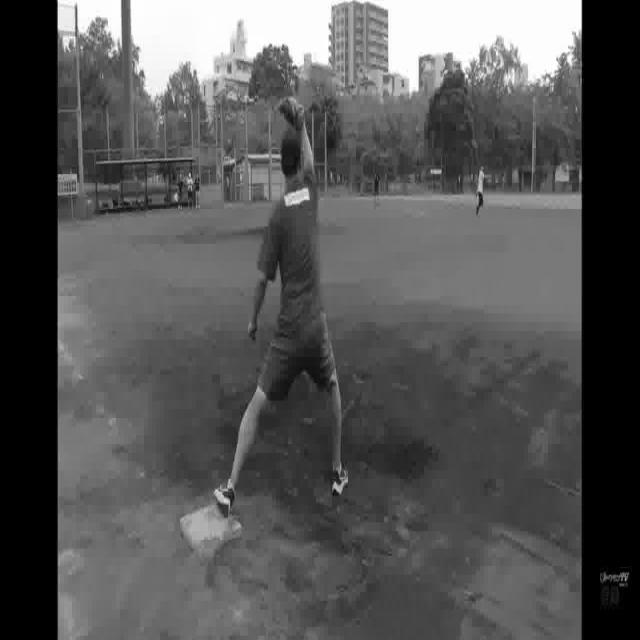base: (178, 506, 245, 559)
baseball_glove: (278, 93, 307, 131)
shoe: (216, 482, 236, 514), (331, 462, 349, 492)
